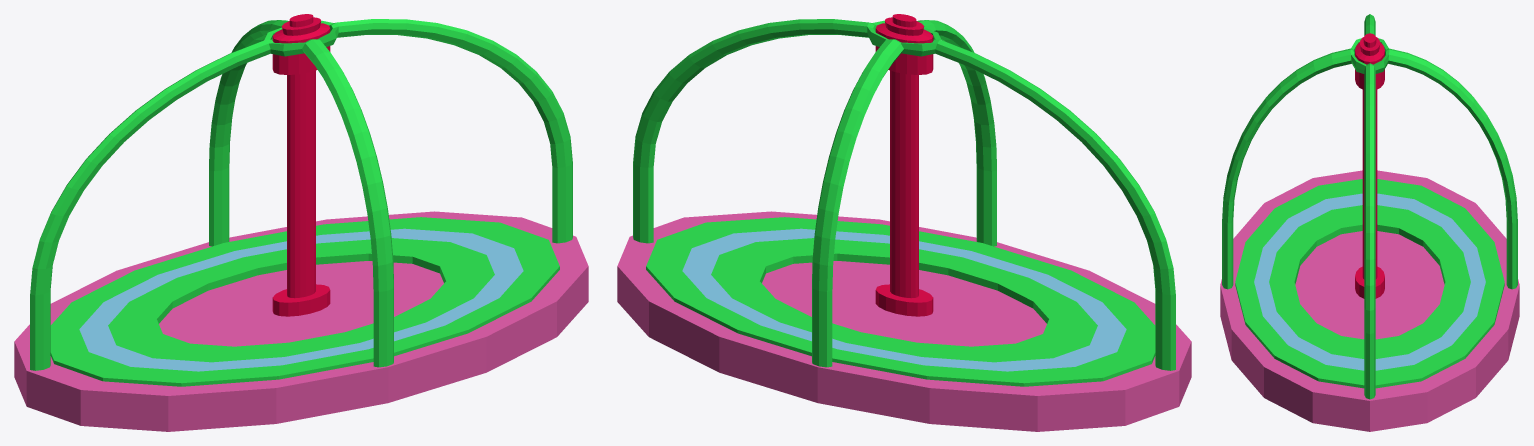
File: Roundabout.fbx
The picture shows the model from 3 angles, left to right: view 1: azimuth 30°, elevation 25°; view 2: azimuth 150°, elevation 25°; view 3: azimuth 270°, elevation 25°; orthographic projection. The views are drawn at different scales.
Visible parts, largest first — view 1: Roundabout, Roundabout_Base; view 2: Roundabout, Roundabout_Base; view 3: Roundabout, Roundabout_Base.
Part boxes in pixels (x1,y1,x2,y2): Roundabout: (14, 19, 588, 431); Roundabout_Base: (272, 14, 330, 316); Roundabout: (617, 19, 1191, 431); Roundabout_Base: (875, 14, 933, 316); Roundabout: (1220, 14, 1519, 431); Roundabout_Base: (1355, 33, 1384, 298).
Size of the model in its own units: 376 by 210 by 205.
